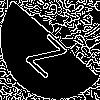Z: (25, 25, 74, 79)
